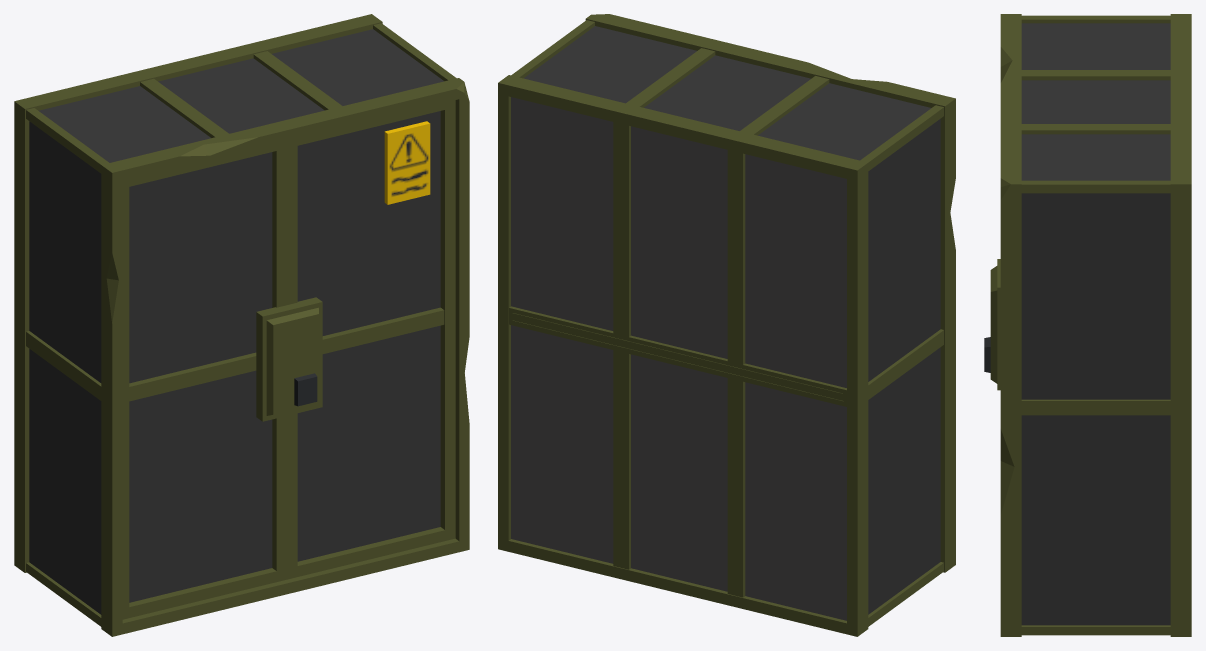
The model's file is SM_Prop_Gunlocker_01.fbx.
The picture shows the model from 3 angles, left to right: view 1: azimuth 30°, elevation 25°; view 2: azimuth 150°, elevation 25°; view 3: azimuth 270°, elevation 25°; orthographic projection. The views are drawn at different scales.
Parts seen in each view (by area): view 1: SM_Prop_Gunlocker_01, SM_Prop_Gunlocker_Door_02, SM_Prop_Gunlocker_Door_01; view 2: SM_Prop_Gunlocker_01; view 3: SM_Prop_Gunlocker_01, SM_Prop_Gunlocker_Door_02.
Boxes of the visible parts, <box> form: SM_Prop_Gunlocker_01: <box>14,14,469,636</box>; SM_Prop_Gunlocker_Door_02: <box>256,100,455,579</box>; SM_Prop_Gunlocker_Door_01: <box>122,141,287,619</box>; SM_Prop_Gunlocker_01: <box>498,14,955,636</box>; SM_Prop_Gunlocker_01: <box>1000,14,1191,636</box>; SM_Prop_Gunlocker_Door_02: <box>984,259,1000,390</box>.
Bounding box in the file's own units: 142 × 176 × 72.98.
